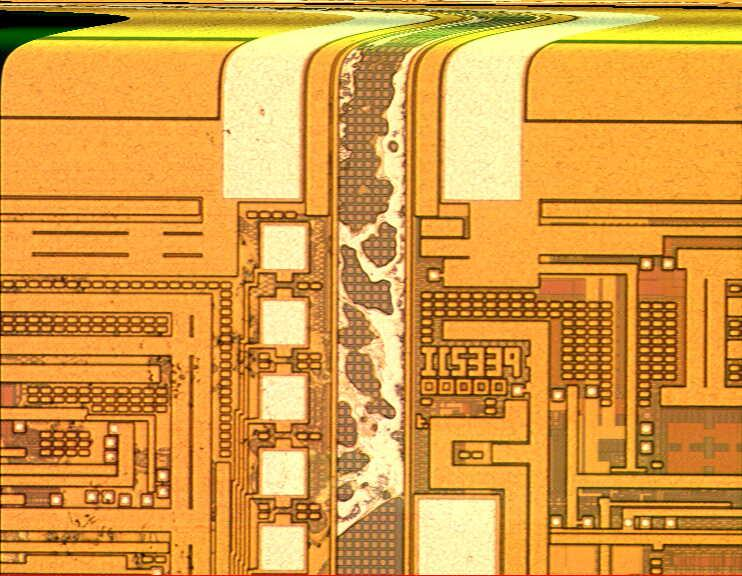BLOCK ETCH: (238, 41, 440, 576)
